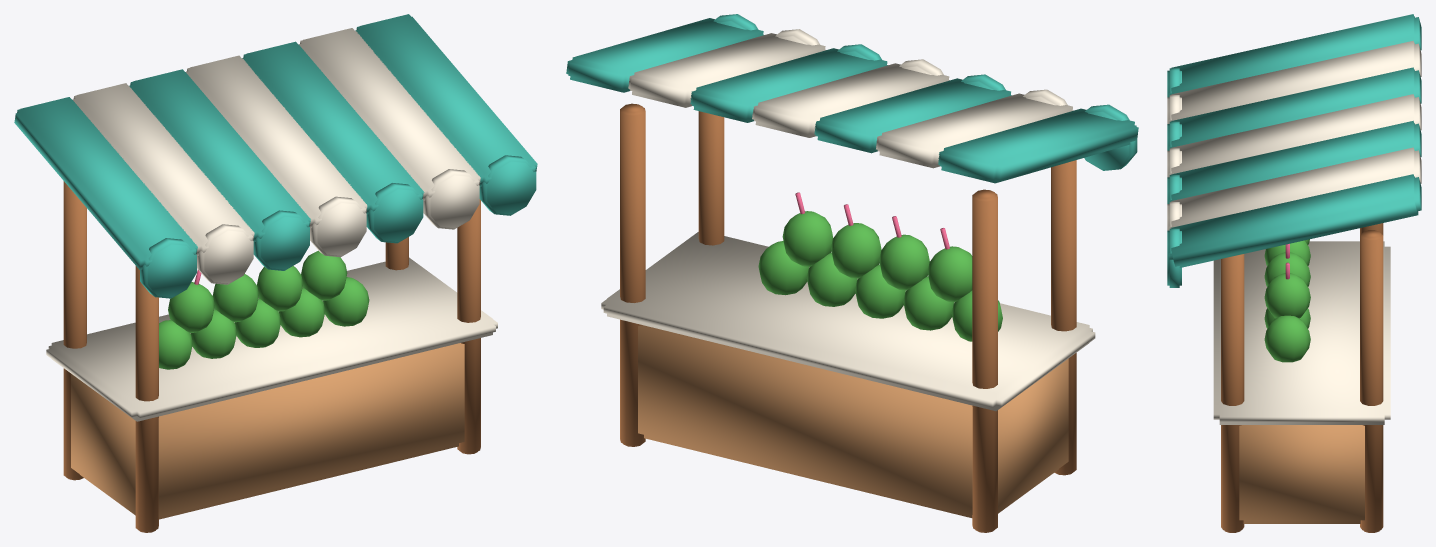
File: MarketStall_Coco.fbx
3 views of the same model, side by side, from view 1: azimuth 30°, elevation 25°; view 2: azimuth 150°, elevation 25°; view 3: azimuth 270°, elevation 25° (orthographic). The views are drawn at different scales.
Parts seen in each view (by area): view 1: MarketStall_Coco; view 2: MarketStall_Coco; view 3: MarketStall_Coco.
Part boxes in pixels (<box>): MarketStall_Coco: <box>14,14,537,532</box>; MarketStall_Coco: <box>566,14,1138,532</box>; MarketStall_Coco: <box>1167,14,1421,532</box>.
Size of the model in its own units: 3.05 by 2.65 by 1.75.
